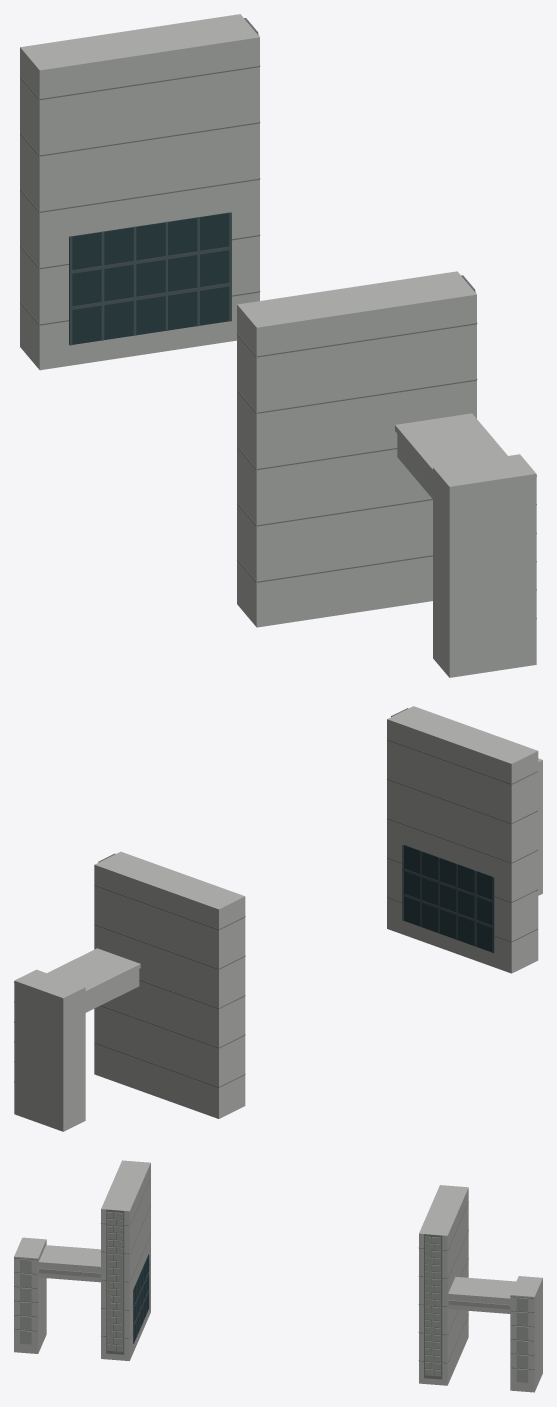
The picture shows the model from 3 angles, top to bottom: view 1: azimuth 30°, elevation 25°; view 2: azimuth 150°, elevation 25°; view 3: azimuth 270°, elevation 25°; orthographic projection. The views are drawn at different scales.
Parts seen in each view (by area): view 1: gate__pale_granite, gate__blue_black_panel, gate__stone_joint, gate__panel_rail; view 2: gate__pale_granite, gate__blue_black_panel, gate__stone_joint, gate__panel_rail; view 3: gate__pale_granite, gate__rough_granite, gate__stone_joint, gate__blue_black_panel, gate__panel_rail.
Part boxes in pixels (bbox=[...]): gate__pale_granite: bbox=[20, 14, 536, 677]; gate__blue_black_panel: bbox=[71, 212, 228, 344]; gate__stone_joint: bbox=[20, 18, 536, 618]; gate__panel_rail: bbox=[69, 212, 231, 345]; gate__pale_granite: bbox=[14, 706, 542, 1131]; gate__blue_black_panel: bbox=[404, 845, 493, 952]; gate__stone_joint: bbox=[14, 708, 537, 1087]; gate__panel_rail: bbox=[402, 844, 494, 953]; gate__pale_granite: bbox=[14, 1160, 542, 1392]; gate__rough_granite: bbox=[20, 1212, 528, 1382]; gate__stone_joint: bbox=[14, 1177, 534, 1379]; gate__blue_black_panel: bbox=[133, 1254, 148, 1341]; gate__panel_rail: bbox=[133, 1254, 149, 1343].
Size of the model in its own units: 12.67 by 10.76 by 34.38.
